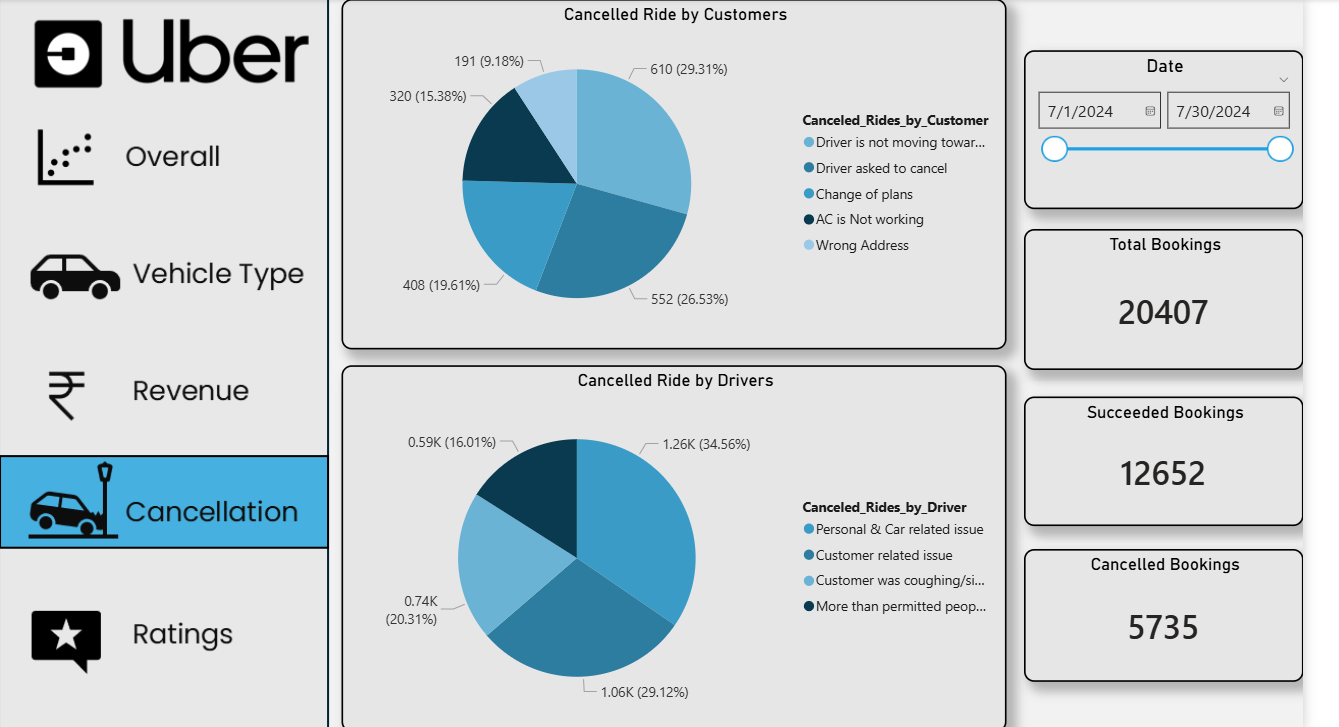

What the dashboard file says about the page in this screenshot:
{"tool":"powerbi","page":{"name":"Cancellation","canvas":[1280,720],"ordinal":3},"visuals":[{"type":"actionButton","box":[0,226.2,323.8,92.5],"z":0},{"type":"actionButton","box":[1.2,112.5,323.8,92.5],"z":1000},{"type":"actionButton","box":[0,343.8,323.8,92.5],"z":2000},{"type":"actionButton","box":[1.4,577.1,324.3,92.9],"z":3000},{"type":"pieChart","title":"Cancelled Ride by Customers","fields":{"Category":["Bookings (2).Canceled_Rides_by_Customer"],"Y":["CountNonNull(Bookings (2).Canceled_Rides_by_Customer)"]},"box":[335.7,0,652.9,344.3],"z":4000},{"type":"pieChart","title":"Cancelled Ride by Drivers","fields":{"Category":["Bookings (2).Canceled_Rides_by_Driver"],"Y":["CountNonNull(Bookings (2).Canceled_Rides_by_Driver)"]},"box":[335.7,360,652.9,360],"z":5000},{"type":"slicer","title":"Date","fields":{"Values":["Bookings (2).Date"]},"box":[1005.7,50,274.3,155.7],"z":6000},{"type":"cardVisual","title":"Succeeded Bookings","fields":{"Data":["Count(Bookings (2).Booking_ID)"]},"box":[1005.7,390,274.3,127.1],"z":7000},{"type":"cardVisual","title":"Total Bookings","fields":{"Data":["Count(Bookings (2).Booking_ID)"]},"box":[1005.7,225.7,274.3,138.6],"z":8000},{"type":"cardVisual","title":"Cancelled Bookings","fields":{"Data":["Count(Bookings (2).Booking_ID)"]},"box":[1005.7,540,274.3,130],"z":10001}]}

Visuals, with their boxes on the page's 1280x720 design canvas (x1, y1, x2, y2). These are canvas units, not pixel positions in the 1339x727 screenshot, which may show the page scaled, cropped or inside an application window:
actionButton: crop(0, 226, 324, 319)
actionButton: crop(1, 112, 325, 205)
actionButton: crop(0, 344, 324, 436)
actionButton: crop(1, 577, 326, 670)
"Cancelled Ride by Customers" pieChart: crop(336, 0, 989, 344)
"Cancelled Ride by Drivers" pieChart: crop(336, 360, 989, 720)
"Date" slicer: crop(1006, 50, 1280, 206)
"Succeeded Bookings" cardVisual: crop(1006, 390, 1280, 517)
"Total Bookings" cardVisual: crop(1006, 226, 1280, 364)
"Cancelled Bookings" cardVisual: crop(1006, 540, 1280, 670)
